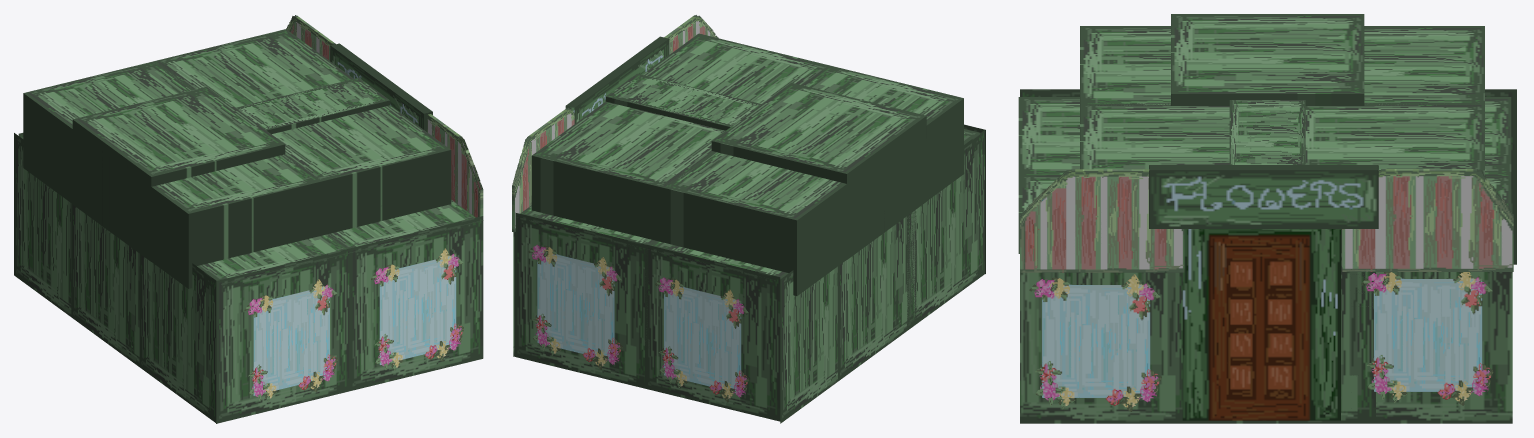
Rendered from Flower_Shop.fbx.
3 renders of one model, left to right at view 1: azimuth 30°, elevation 25°; view 2: azimuth 150°, elevation 25°; view 3: azimuth 270°, elevation 25°, orthographic. The views are drawn at different scales.
Parts seen in each view (by area): view 1: Plane.028, Plane.017, Plane.029, Plane, Plane.010, Plane.027, Plane.009, Plane.026, Plane.022, Plane.011, Plane.023, Plane.012 (+6 smaller); view 2: Plane.027, Plane.026, Plane.017, Plane.014, Plane.013, Plane.009, Plane.011, Plane.028, Plane.025, Plane.024, Plane.012, Plane.029 (+7 smaller); view 3: Plane.002, Plane.017, Plane.007, Plane.004, Plane.001, Plane.021, Plane.003, Plane.008, Plane.026, Plane.027, Plane.029, Plane.006 (+9 smaller).
Part boxes in pixels (x1,y1,x2,y2): Plane.028: (109, 154, 322, 288); Plane.017: (72, 87, 285, 251); Plane.029: (272, 105, 451, 236); Plane: (349, 216, 483, 391); Plane.010: (216, 248, 349, 423); Plane.027: (23, 61, 191, 225); Plane.009: (139, 254, 216, 423); Plane.026: (152, 29, 353, 107); Plane.022: (371, 248, 463, 370); Plane.011: (71, 203, 139, 366); Plane.023: (244, 279, 337, 401); Plane.012: (14, 133, 71, 316); Plane.027: (661, 152, 848, 295); Plane.026: (531, 101, 725, 242); Plane.017: (711, 83, 926, 249); Plane.014: (645, 244, 780, 421); Plane.013: (514, 213, 649, 388); Plane.009: (907, 130, 984, 330); Plane.011: (838, 210, 916, 381); Plane.028: (802, 65, 963, 231); Plane.025: (655, 277, 749, 402); Plane.024: (528, 244, 622, 369); Plane.012: (780, 266, 837, 423); Plane.029: (642, 33, 828, 103); Plane.002: (1182, 229, 1340, 420); Plane.017: (1171, 14, 1364, 105); Plane.007: (1342, 169, 1513, 271); Plane.004: (1149, 165, 1378, 228); Plane.001: (1020, 169, 1184, 272); Plane.021: (1029, 274, 1161, 411); Plane.003: (1361, 272, 1493, 405); Plane.008: (1020, 271, 1193, 423); Plane.026: (1305, 103, 1484, 248); Plane.027: (1364, 26, 1484, 105); Plane.029: (1080, 103, 1229, 169); Plane.006: (1356, 271, 1512, 423).
Bounding box in the file's own units: 304 × 222 × 399.
33 materials, 33 textured.
